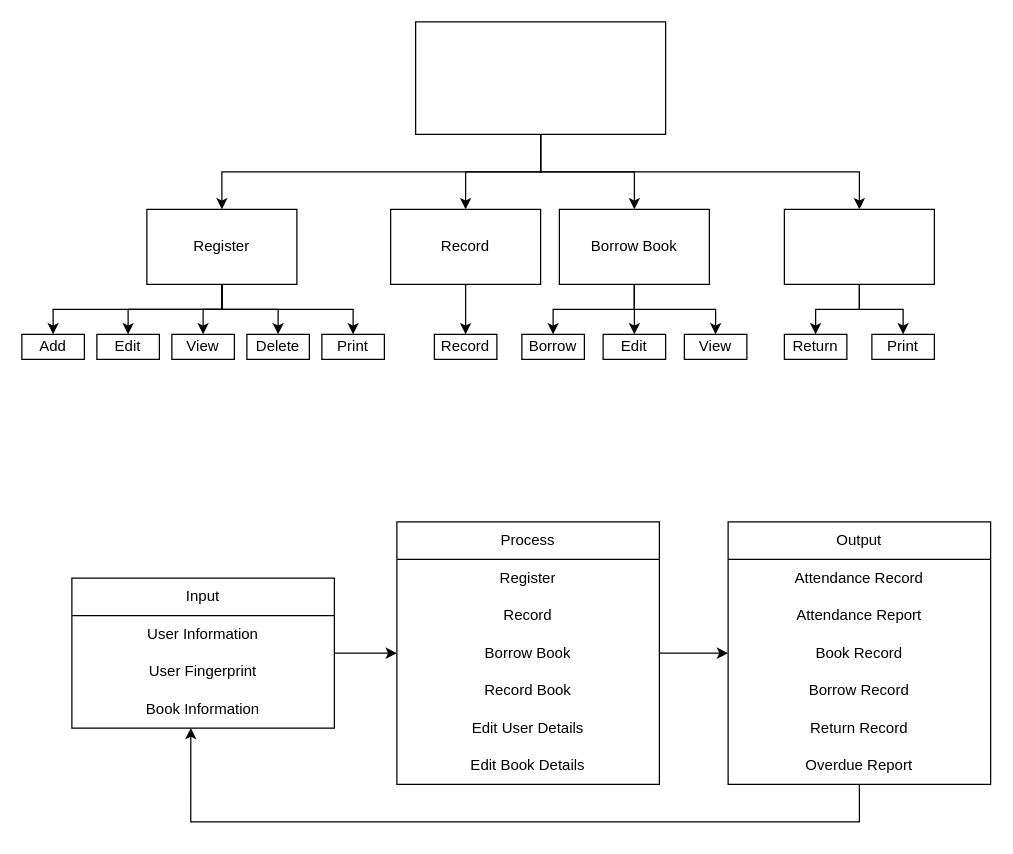
Image size: 1013x854. Some labels were removed from this diagram. Each missing label, with the centre of its shape:
Automated System for Learning Resource Center: (x=540, y=77)
Return Book: (x=858, y=246)
